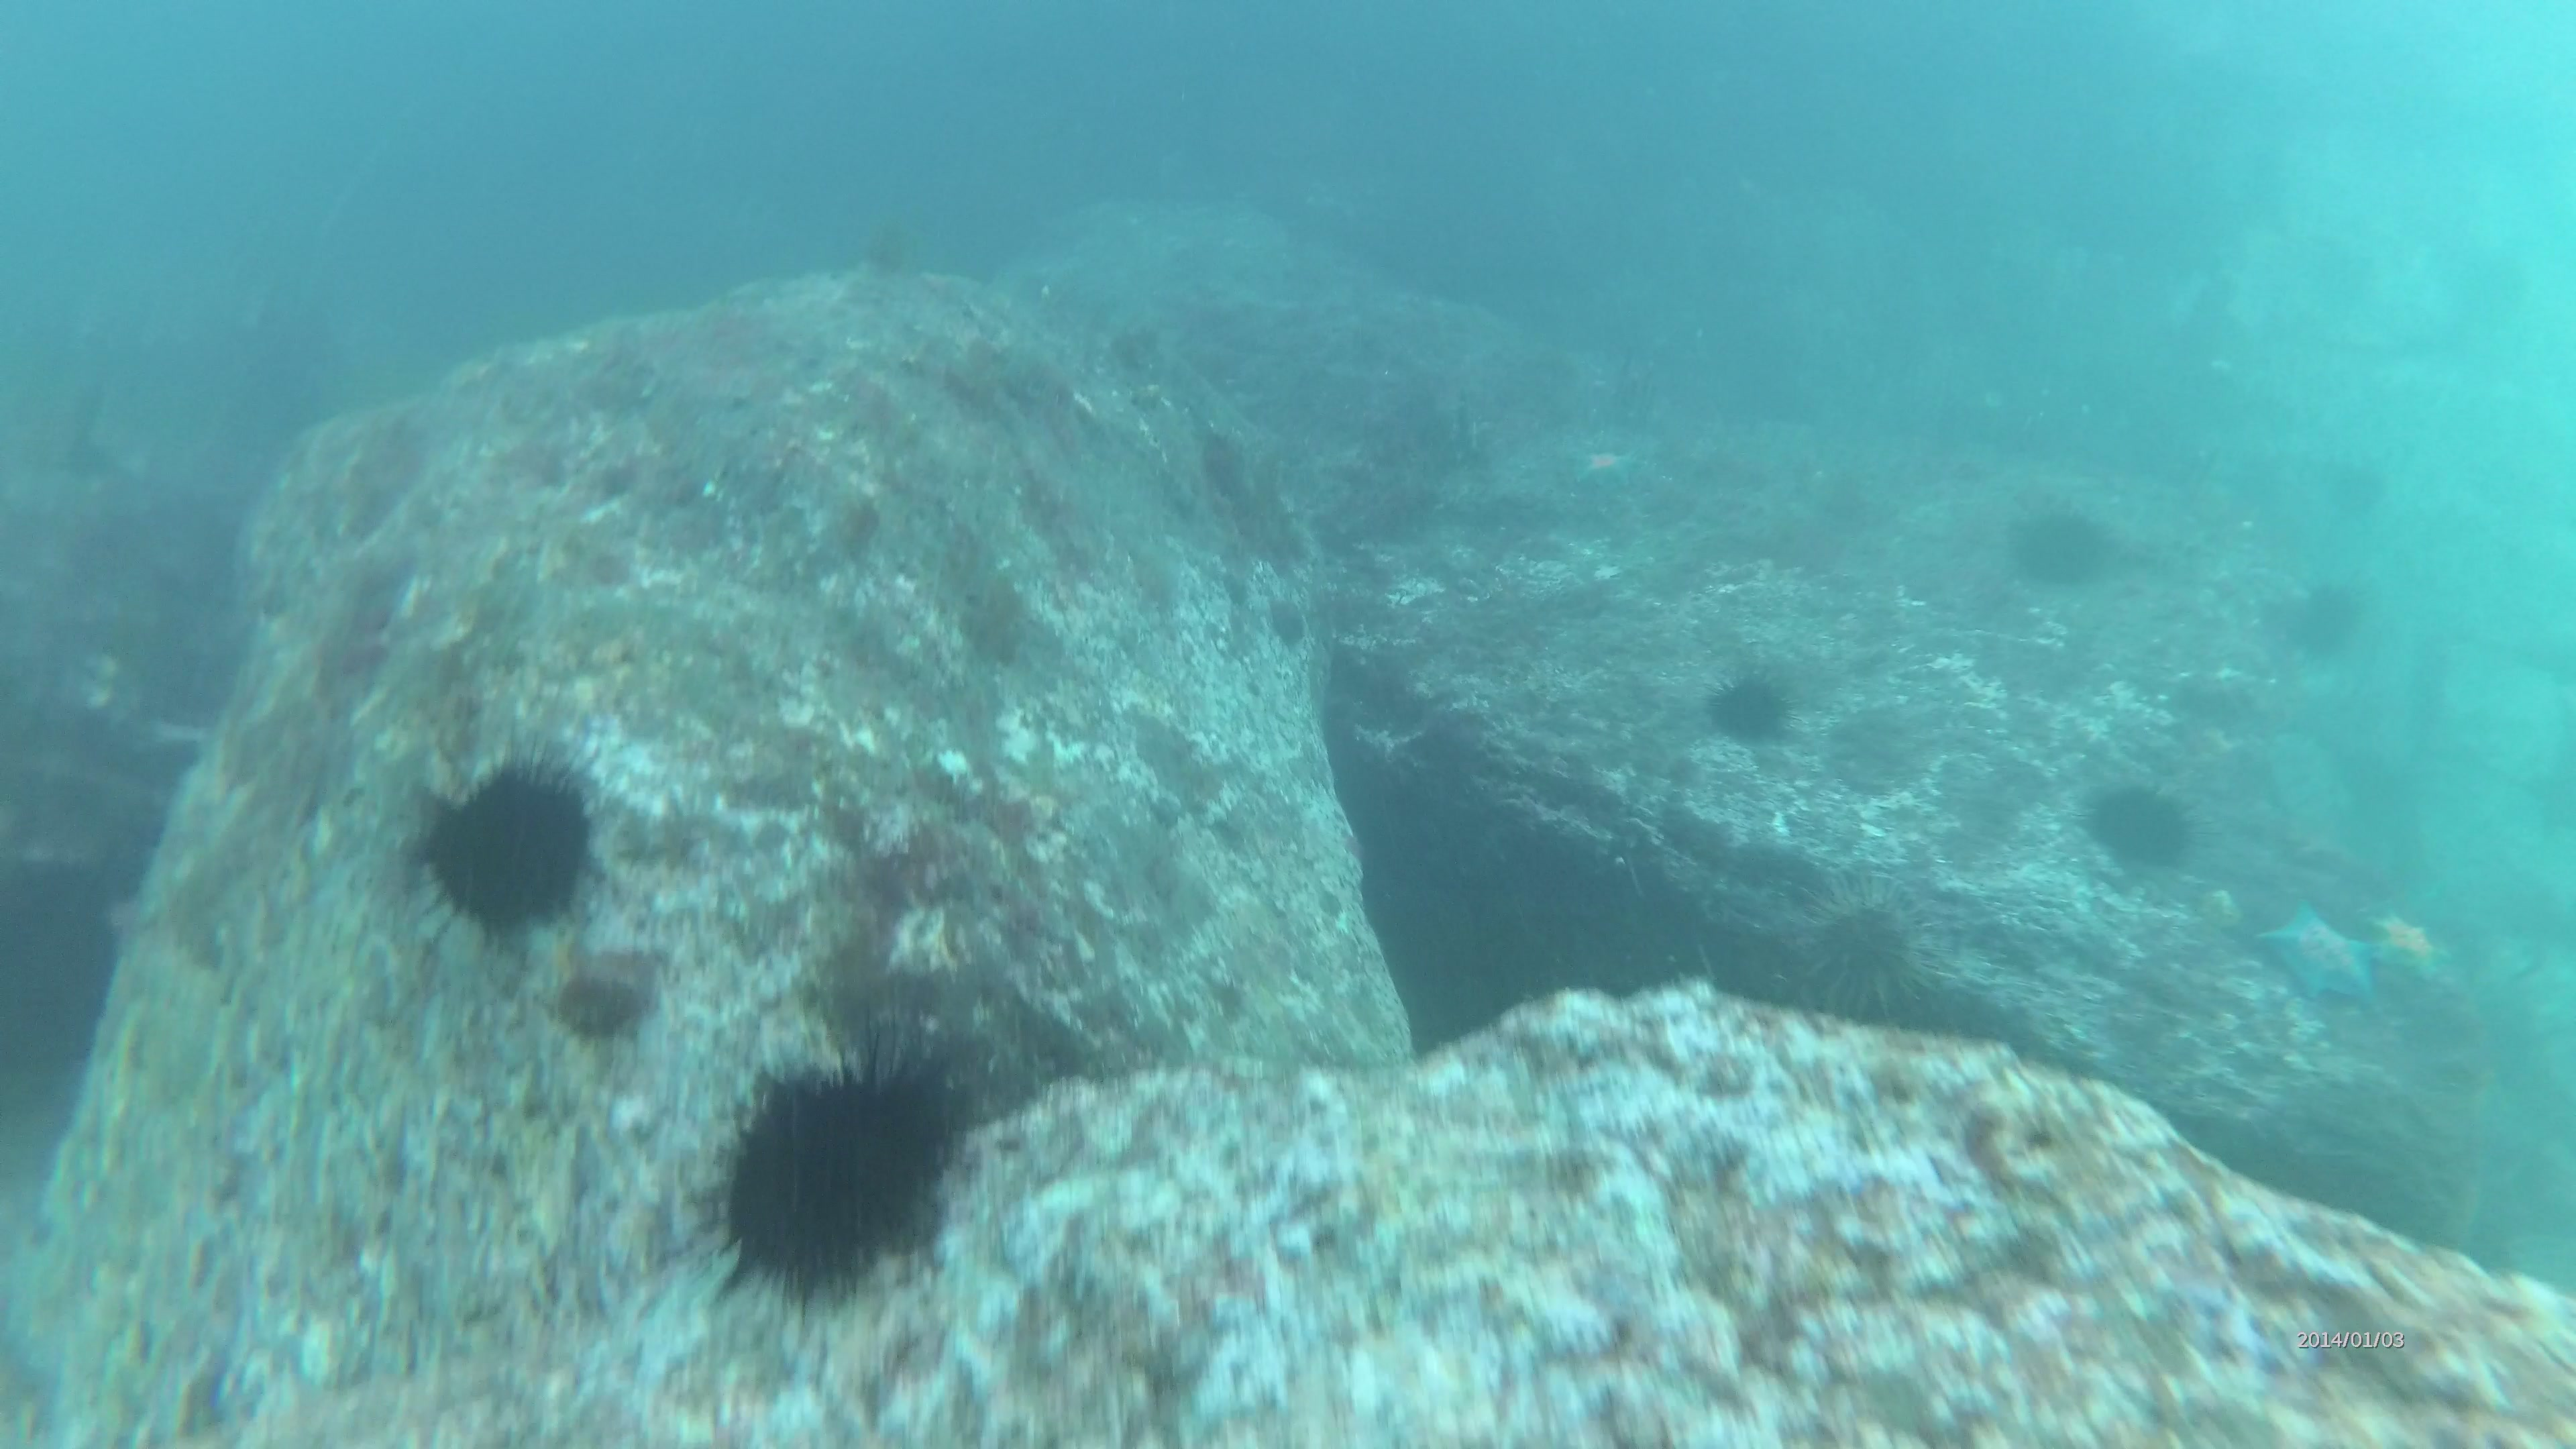echinus: (681, 1040, 978, 1322), (1766, 842, 1960, 1035), (409, 770, 602, 939), (2075, 775, 2208, 879), (1994, 497, 2123, 596), (1702, 655, 1812, 752), (2277, 573, 2373, 660)
starfish: (2252, 888, 2380, 1012), (2360, 892, 2459, 987), (1575, 446, 1642, 488)
